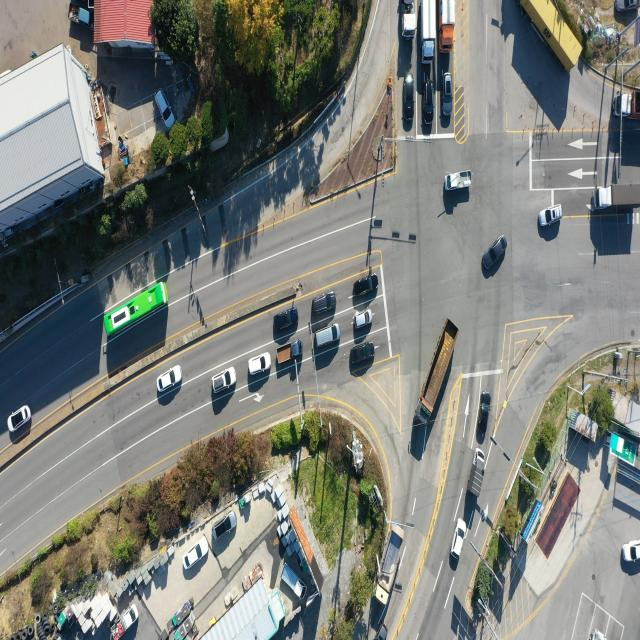car: (483, 234, 508, 273), (184, 539, 210, 572), (157, 89, 176, 130), (478, 393, 492, 442), (314, 324, 340, 350), (158, 365, 183, 392), (352, 274, 378, 299), (212, 367, 237, 393), (350, 342, 376, 367), (9, 406, 32, 434), (214, 511, 236, 539), (274, 308, 299, 332), (312, 293, 337, 316), (248, 351, 271, 375), (540, 205, 564, 228), (406, 74, 416, 127), (453, 518, 466, 558), (422, 79, 433, 124), (444, 75, 454, 119), (621, 539, 640, 562), (353, 309, 372, 329), (616, 0, 640, 13), (374, 625, 388, 640)
large_bus: (105, 279, 168, 338)
large_truck: (520, 0, 584, 71)
medium_truck: (419, 318, 458, 421), (376, 527, 402, 608), (592, 184, 640, 218), (420, 0, 440, 63), (441, 0, 456, 51), (613, 90, 640, 117), (404, 0, 419, 38)
small_truck: (109, 605, 138, 640), (471, 448, 489, 499), (280, 564, 303, 598), (276, 341, 301, 366), (67, 1, 92, 25), (443, 169, 470, 191)
